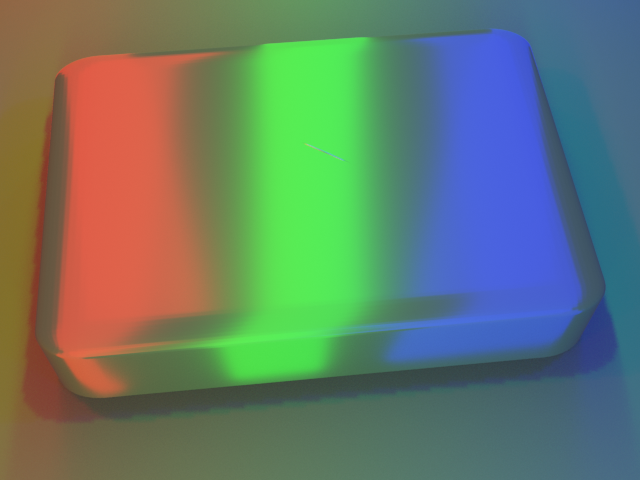scratch: (244, 99, 401, 187)
